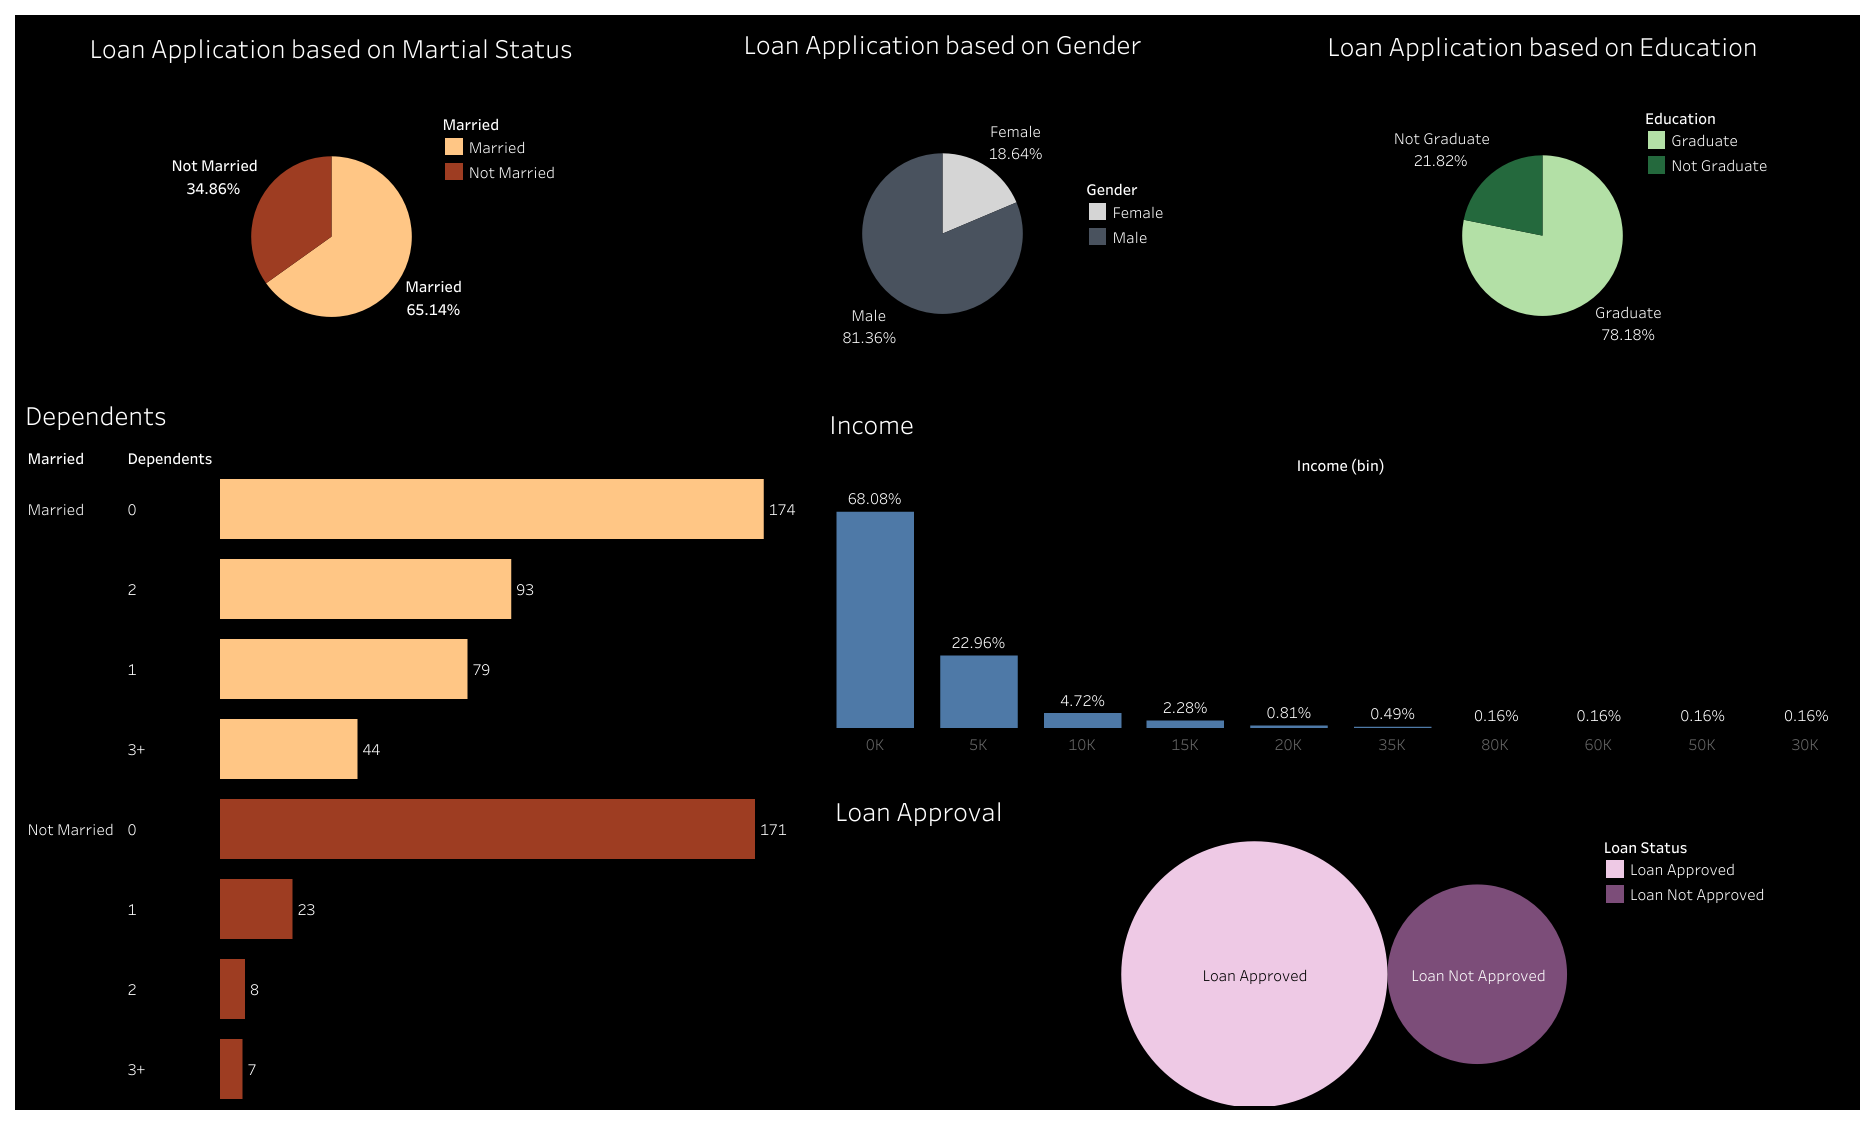

The page's visual inventory and layout, read from the dashboard file:
{"tool":"tableau","page":{"name":"Dashboard 2","canvas":[1500,900],"ordinal":1},"visuals":[{"type":"image","param":"Image/Screenshot (174).png","box":[8,8,1484,884]},{"type":"worksheet","title":"Gender","mark":"Pie","box":[504,15,500,300]},{"type":"worksheet","title":"Education","mark":"Pie","box":[984,17,500,300]},{"type":"worksheet","title":"Married","mark":"Pie","box":[15,18,500,300]},{"type":"legend","title":"Education","param":"[federated.1a2dcaj1j8e12k13b1zly02yske4].[none:Education:nk]","box":[1315,83,140,64]},{"type":"legend","title":"Married","param":"[federated.1a2dcaj1j8e12k13b1zly02yske4].[none:Married:nk]","box":[353,88,140,64]},{"type":"legend","title":"Gender","param":"[federated.1a2dcaj1j8e12k13b1zly02yske4].[none:Gender:nk]","box":[868,140,140,64]},{"type":"worksheet","title":"Dependents","mark":"Automatic","rows":["Married","Dependents"],"cols":["Loan_ID"],"box":[16,312,648,575]},{"type":"worksheet","title":"Income","mark":"Automatic","cols":["Applicant Income (bin)"],"box":[659,319,827,285]},{"type":"worksheet","title":"Loan Approval","mark":"Circle","box":[664,629,822,256]},{"type":"legend","title":"Loan Approval","param":"[federated.1a2dcaj1j8e12k13b1zly02yske4].[none:Loan_Status:nk]","box":[1282,666,162,64]}]}

Visuals, with their boxes in screenshot pixels (x1, y1, x2, y2), scaled from the page's 1500x900 canvas onto the 1874x1124 screenshot:
image: bbox=[10, 10, 1864, 1114]
"Gender" worksheet (Pie marks): bbox=[630, 19, 1254, 393]
"Education" worksheet (Pie marks): bbox=[1229, 21, 1854, 396]
"Married" worksheet (Pie marks): bbox=[19, 22, 643, 397]
"Education" legend: bbox=[1643, 104, 1818, 184]
"Married" legend: bbox=[441, 110, 616, 190]
"Gender" legend: bbox=[1084, 175, 1259, 255]
"Dependents" worksheet: bbox=[20, 390, 830, 1108]
"Income" worksheet: bbox=[823, 398, 1857, 754]
"Loan Approval" worksheet (Circle marks): bbox=[830, 786, 1857, 1105]
"Loan Approval" legend: bbox=[1602, 832, 1804, 912]
